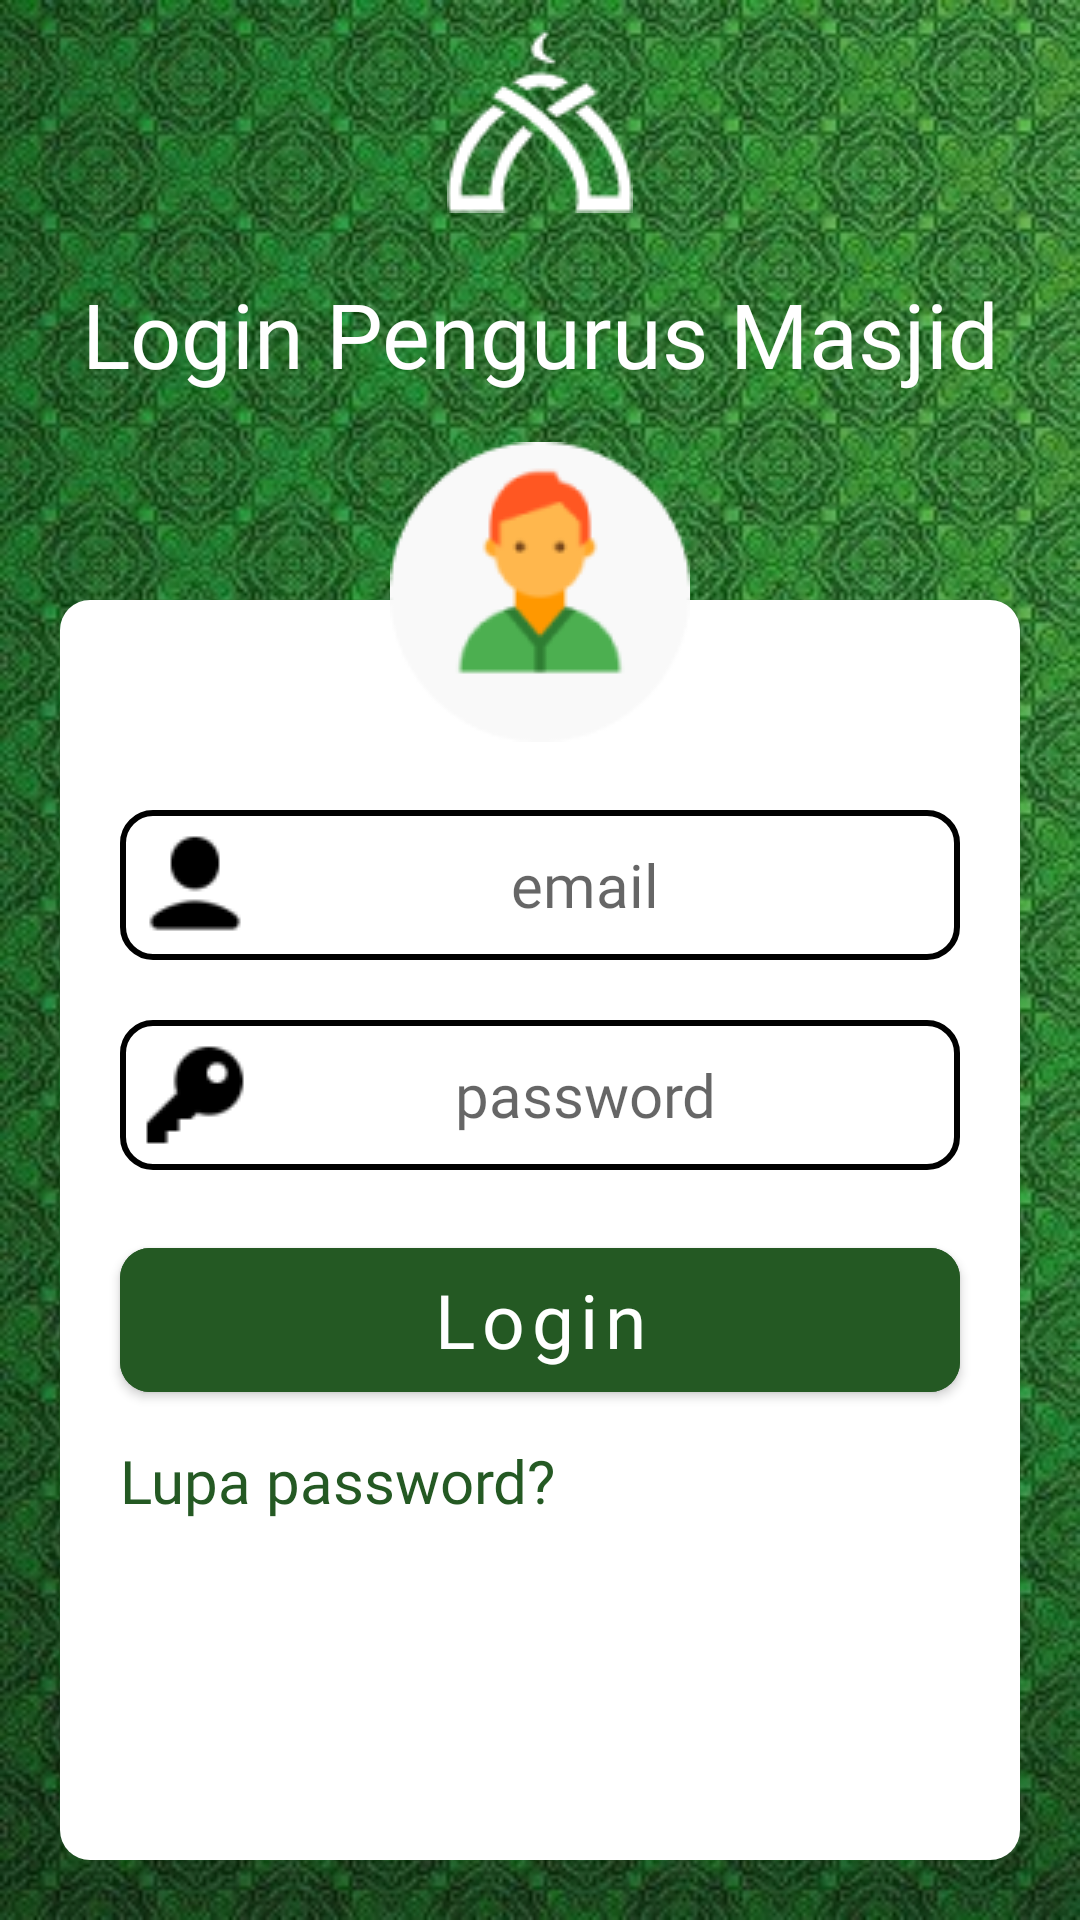

Icons on this 1080px×1920px Android screen, each with the point to tap as (x=x, y=y):
key: (x=195, y=1095)
user: (x=195, y=883)
